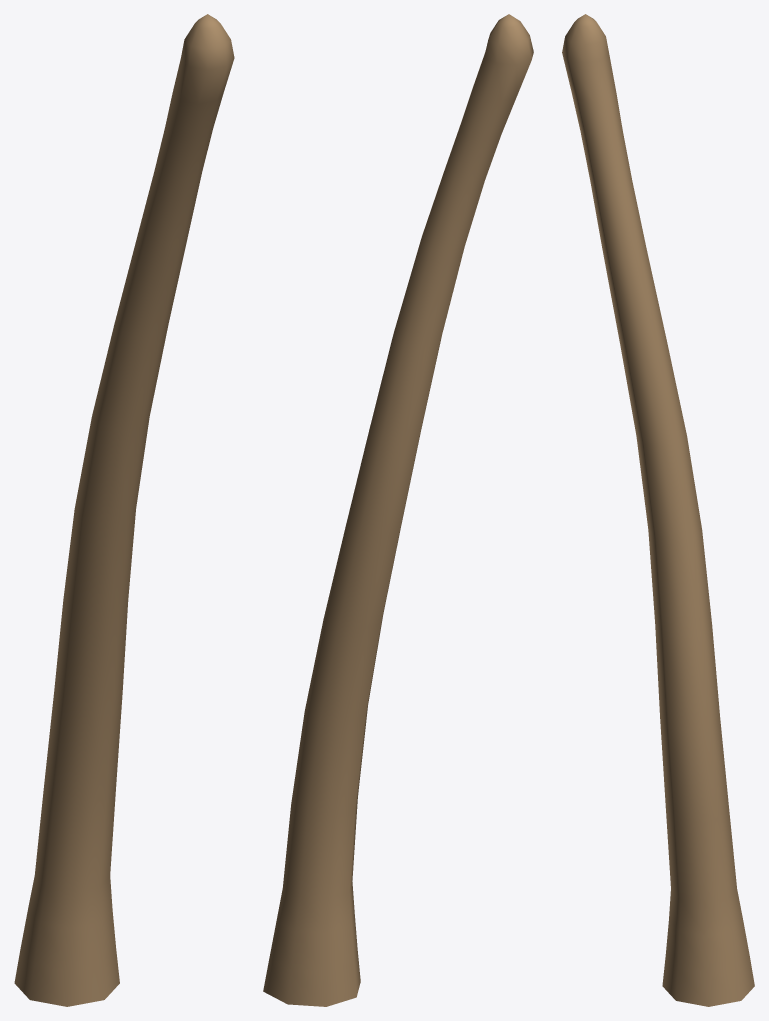
File: palm_mid.glb
3 renders of one model, left to right at view 1: azimuth 90°, elevation 25°; view 2: azimuth 150°, elevation 25°; view 3: azimuth 270°, elevation 25°, orthographic. The views are drawn at different scales.
Parts seen in each view (by area): view 1: palm_mid; view 2: palm_mid; view 3: palm_mid.
Part boxes in pixels (<box>): palm_mid: <box>14,14,234,1006</box>; palm_mid: <box>263,14,533,1006</box>; palm_mid: <box>562,14,754,1006</box>.
Size of the model in its own units: 1.96 by 8.98 by 1.72.
